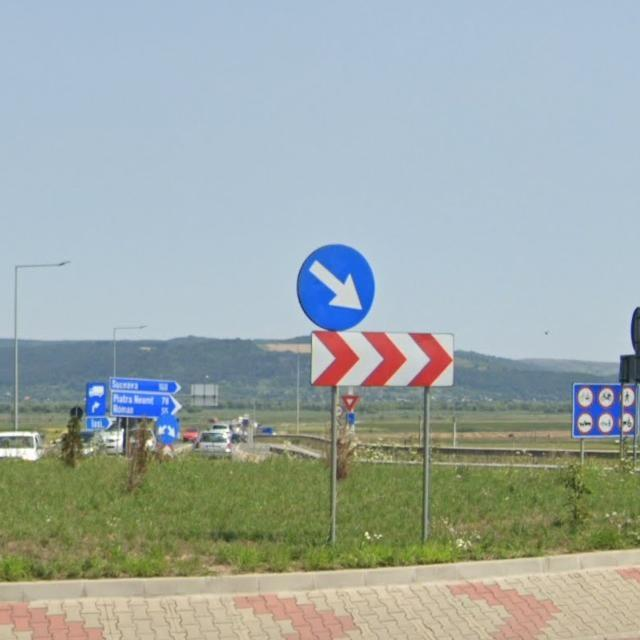prio_give_way: (342, 394, 360, 411)
